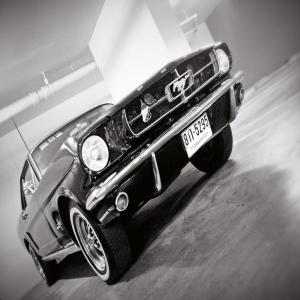Vehicle-registration-plate: (185, 116, 214, 151)
